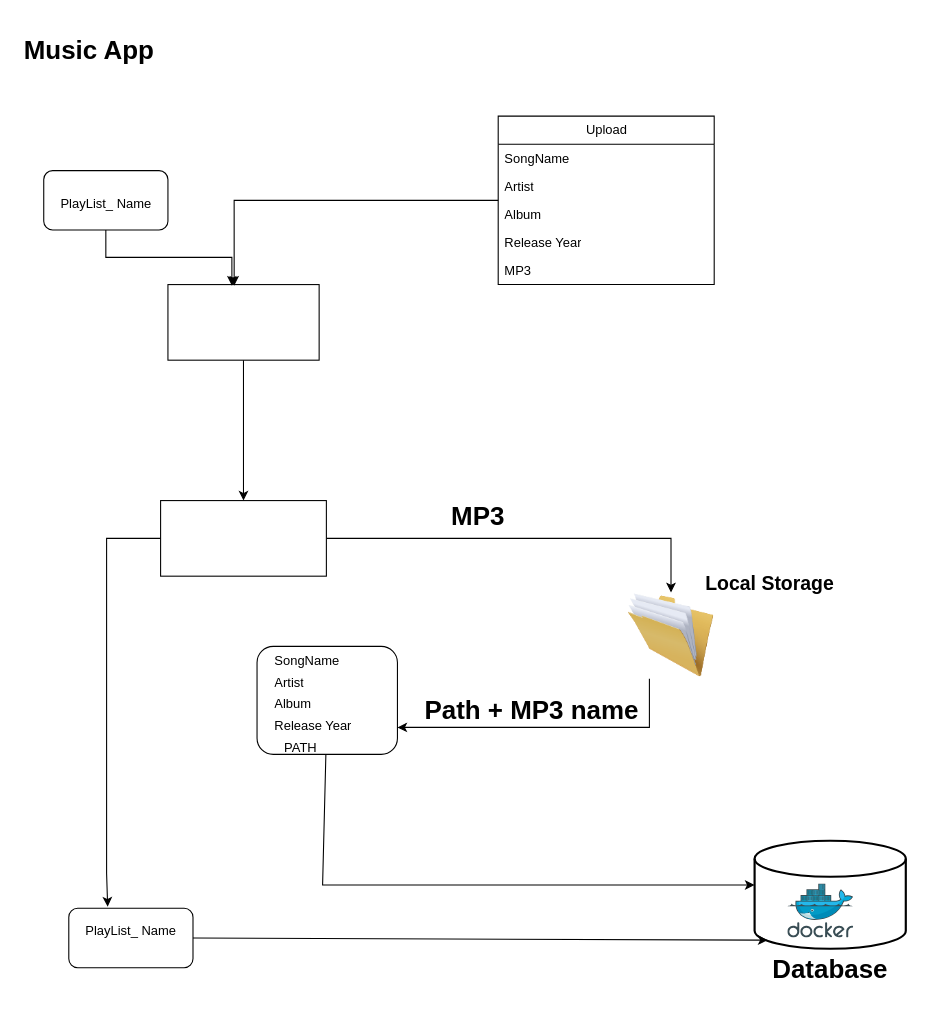
This 926x1010 diagram has some shape labels left out. Here are the shapes that lost their labels. From the top down, the centre of each, then its label:
the point at 243,322: Frontend
the point at 243,538: Backend
